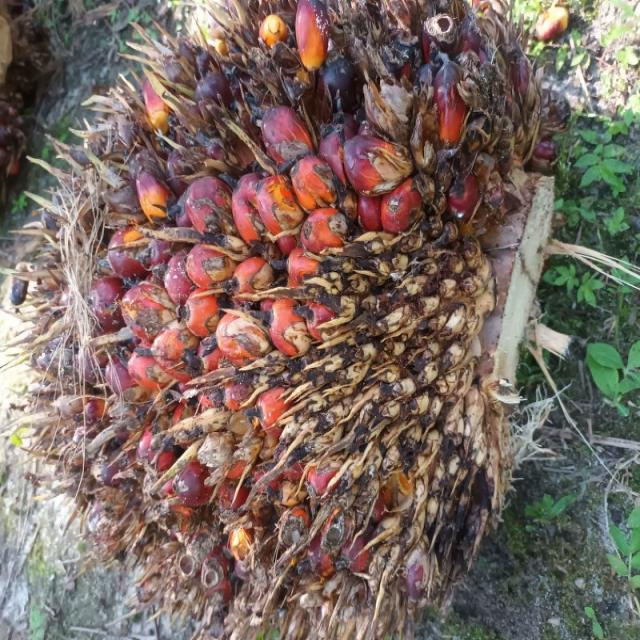fraksi 1: (8, 2, 480, 640)
